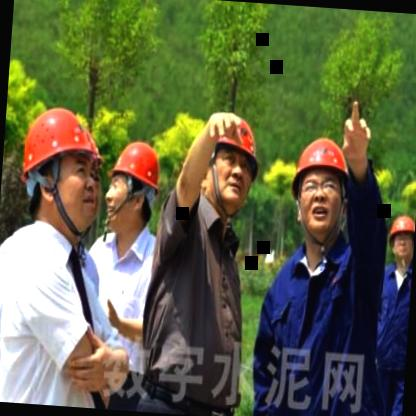helmet: (13, 100, 104, 235), (282, 128, 356, 252), (190, 104, 266, 221), (101, 133, 165, 238), (384, 211, 416, 268)
